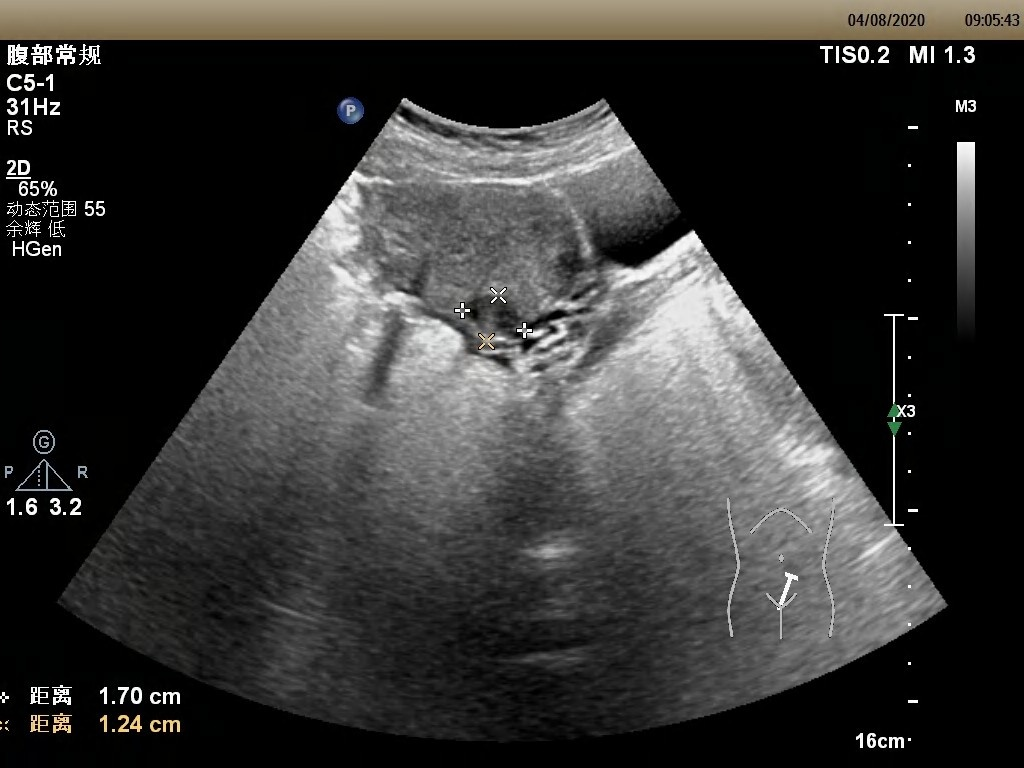肌瘤: (464, 296, 525, 341)
